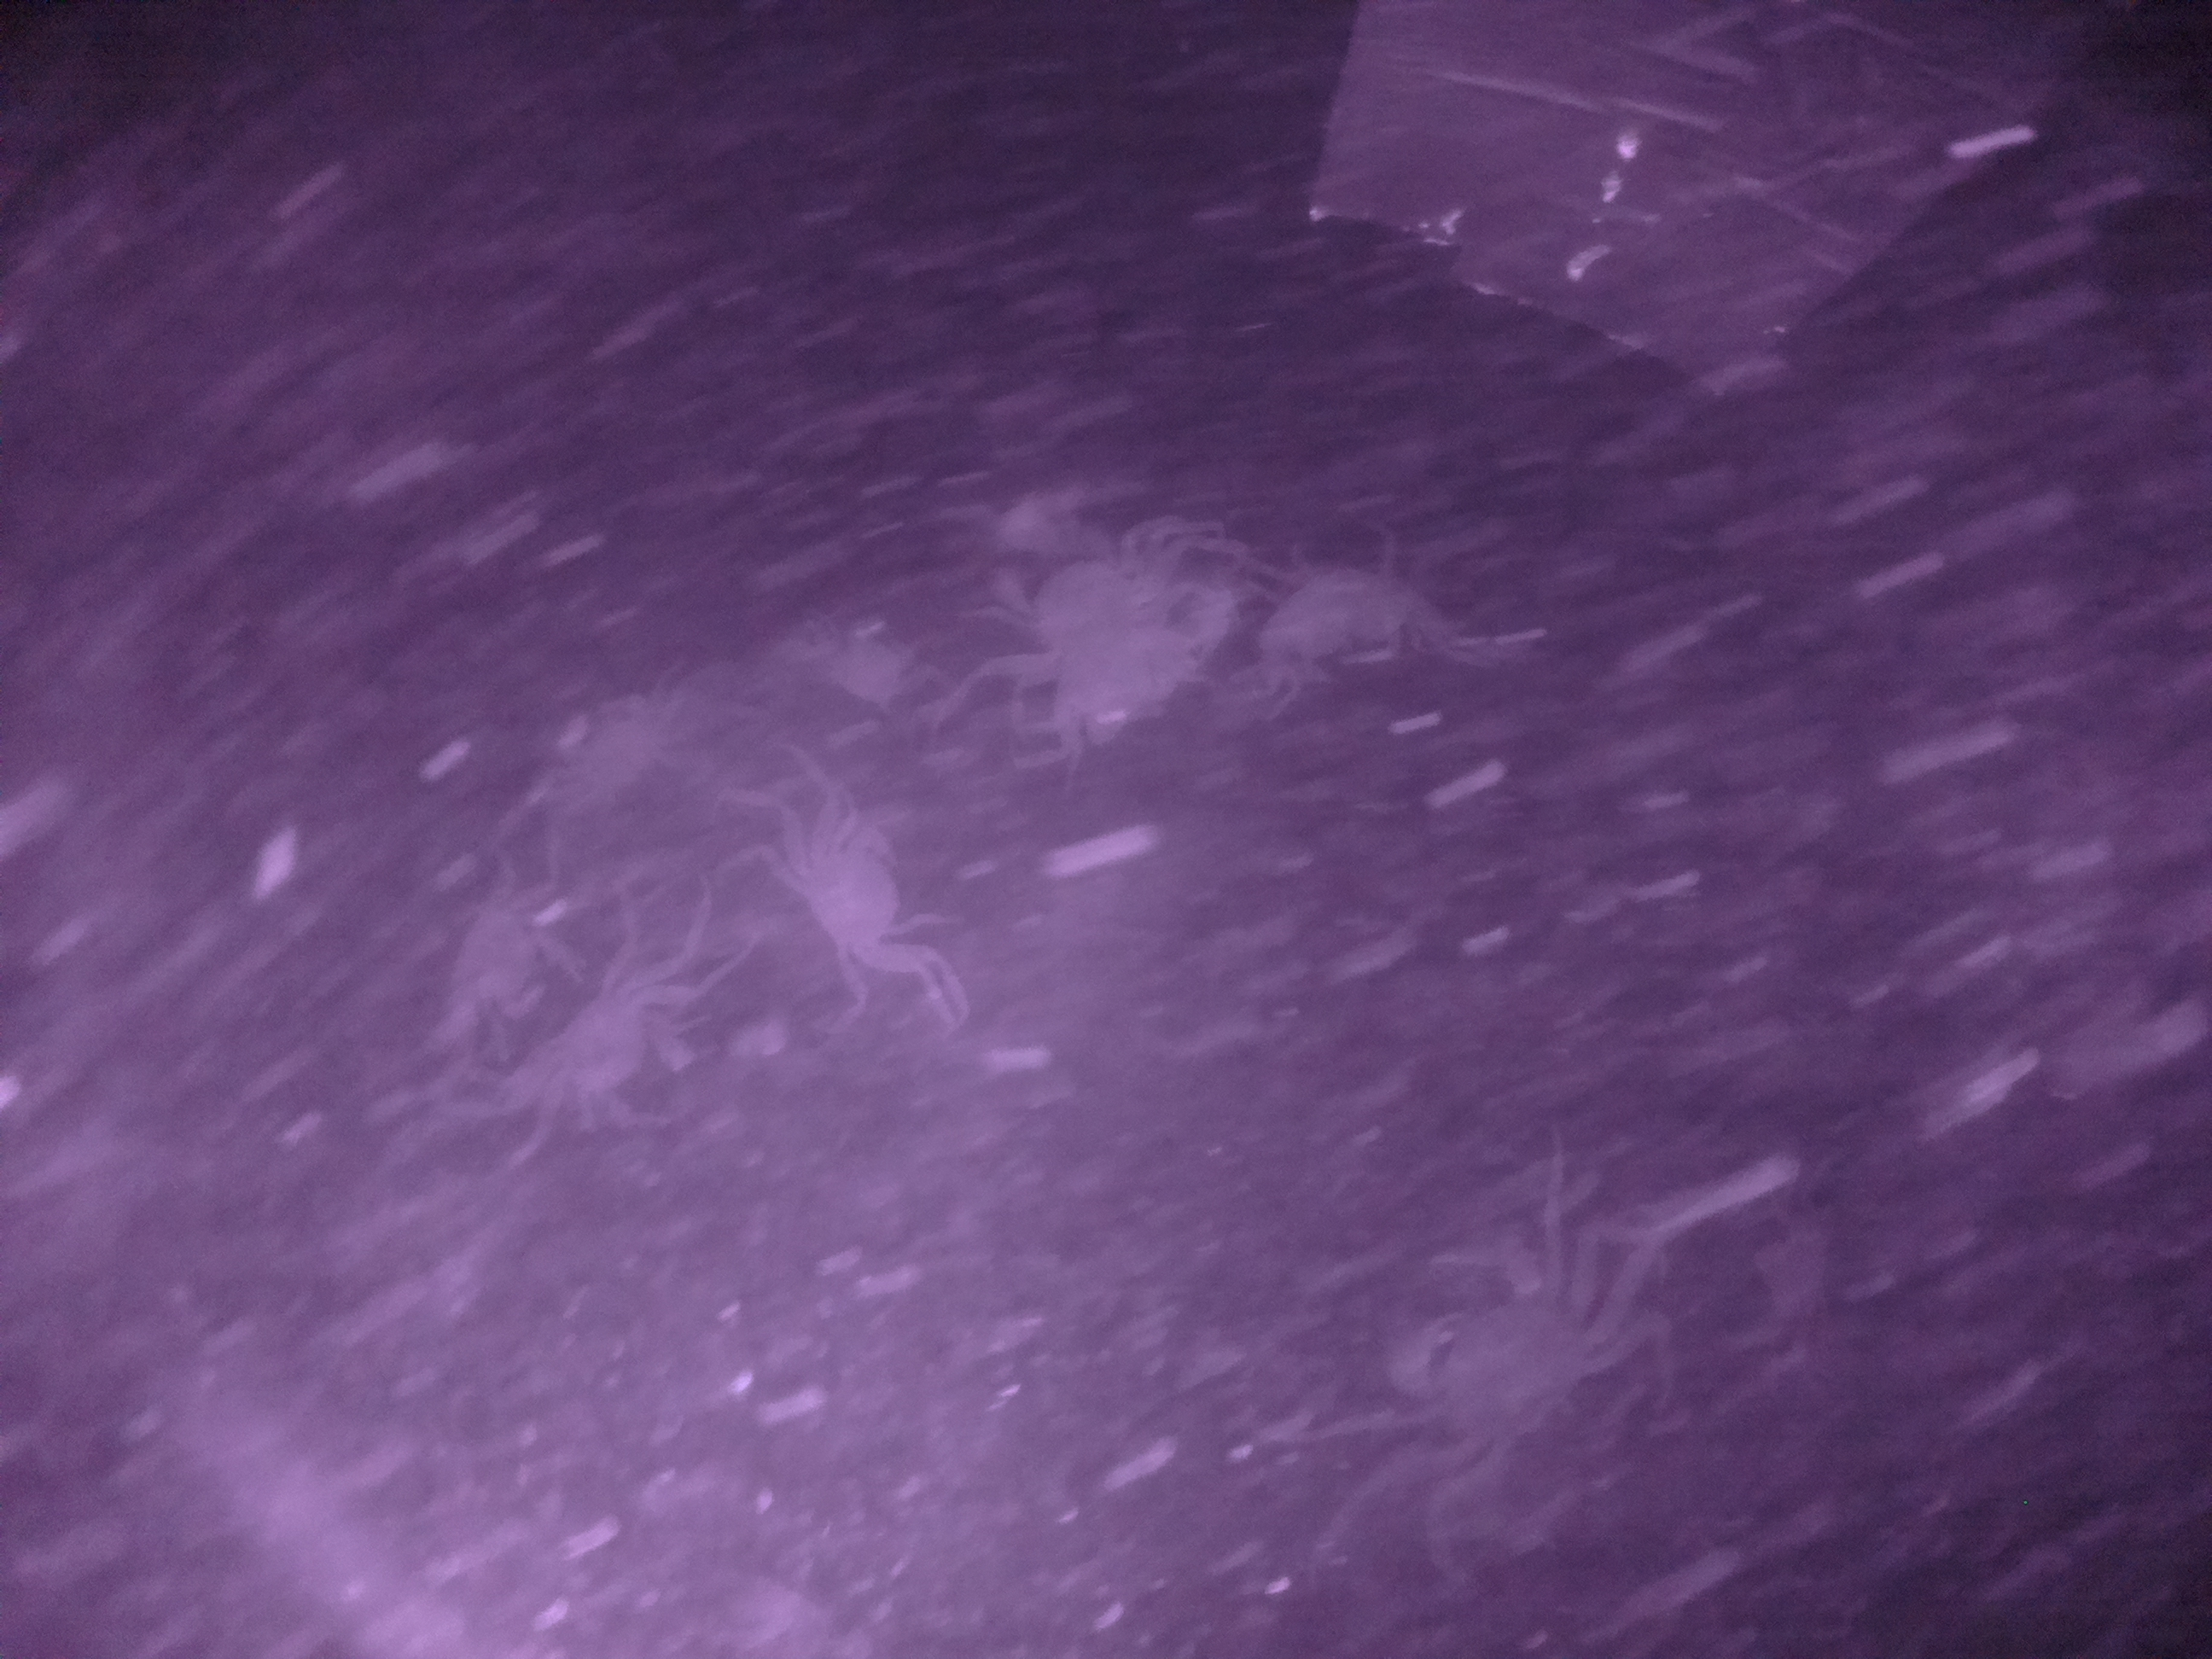Crab: (1367, 1227, 1660, 1507), (509, 945, 716, 1154), (775, 782, 951, 1006)
